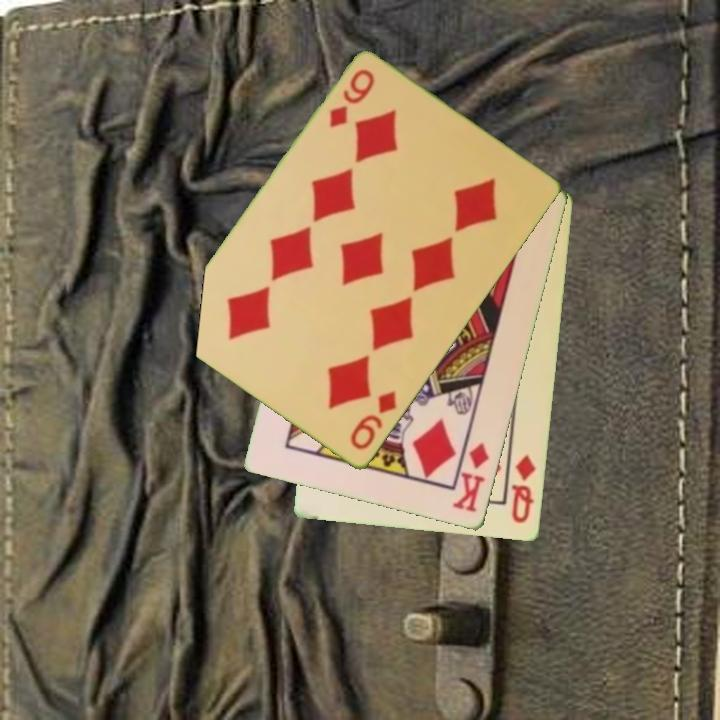9d: (346, 388, 400, 454), (325, 66, 378, 131)
Kd: (449, 439, 492, 516)
Qd: (509, 452, 539, 527)
